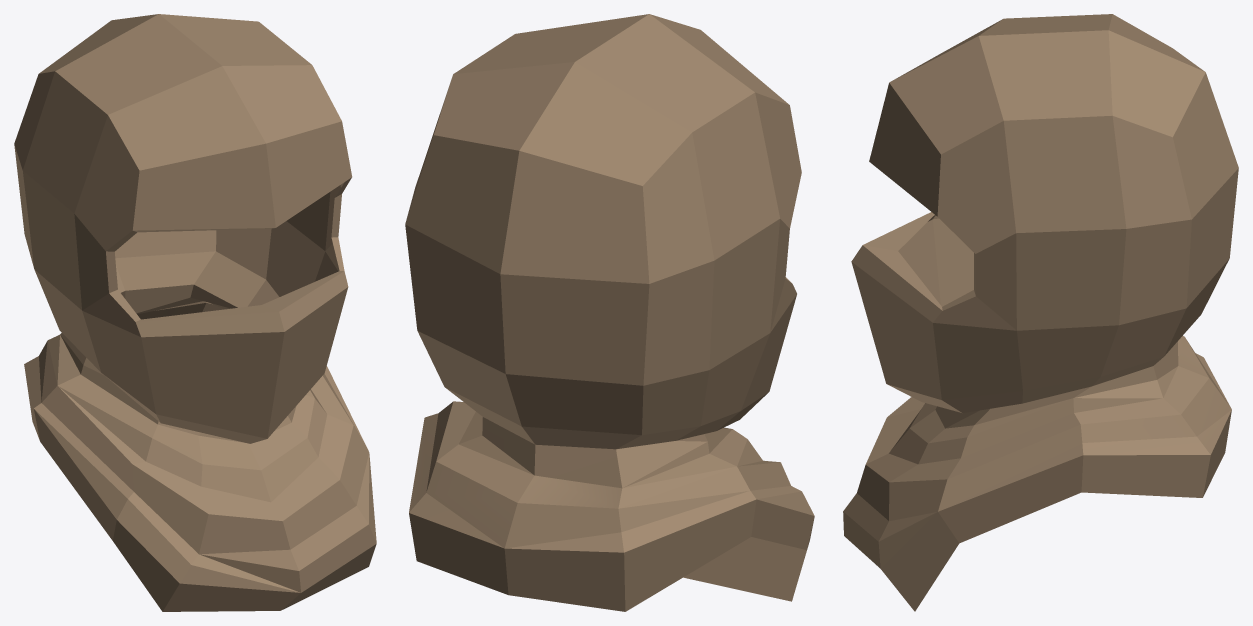
File: Balaclava_04_SM.FBX
The picture shows the model from 3 angles, left to right: view 1: azimuth 30°, elevation 25°; view 2: azimuth 150°, elevation 25°; view 3: azimuth 270°, elevation 25°; orthographic projection. The views are drawn at different scales.
Visible parts, largest first — view 1: Balaclava_04_SM; view 2: Balaclava_04_SM; view 3: Balaclava_04_SM.
Boxes of the visible parts, x1,y1,x2,y2 form: Balaclava_04_SM: (14, 14, 376, 611); Balaclava_04_SM: (405, 14, 814, 611); Balaclava_04_SM: (843, 14, 1238, 611).
Size of what is drawn, in the model's own units: 22.59 by 26.94 by 40.14.
